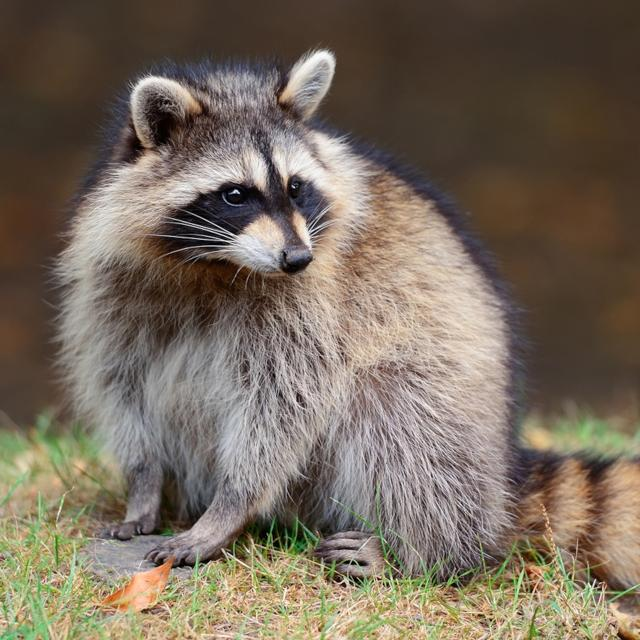Raccoon: (56, 44, 526, 592)
